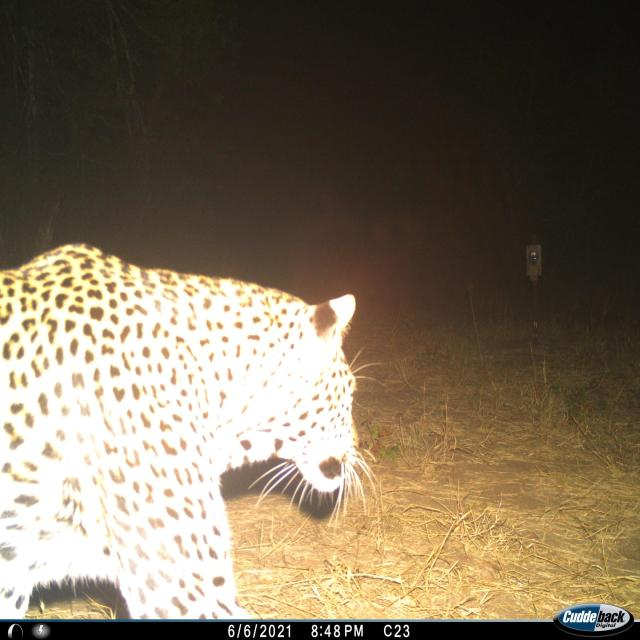Leopard: (3, 250, 375, 637)
